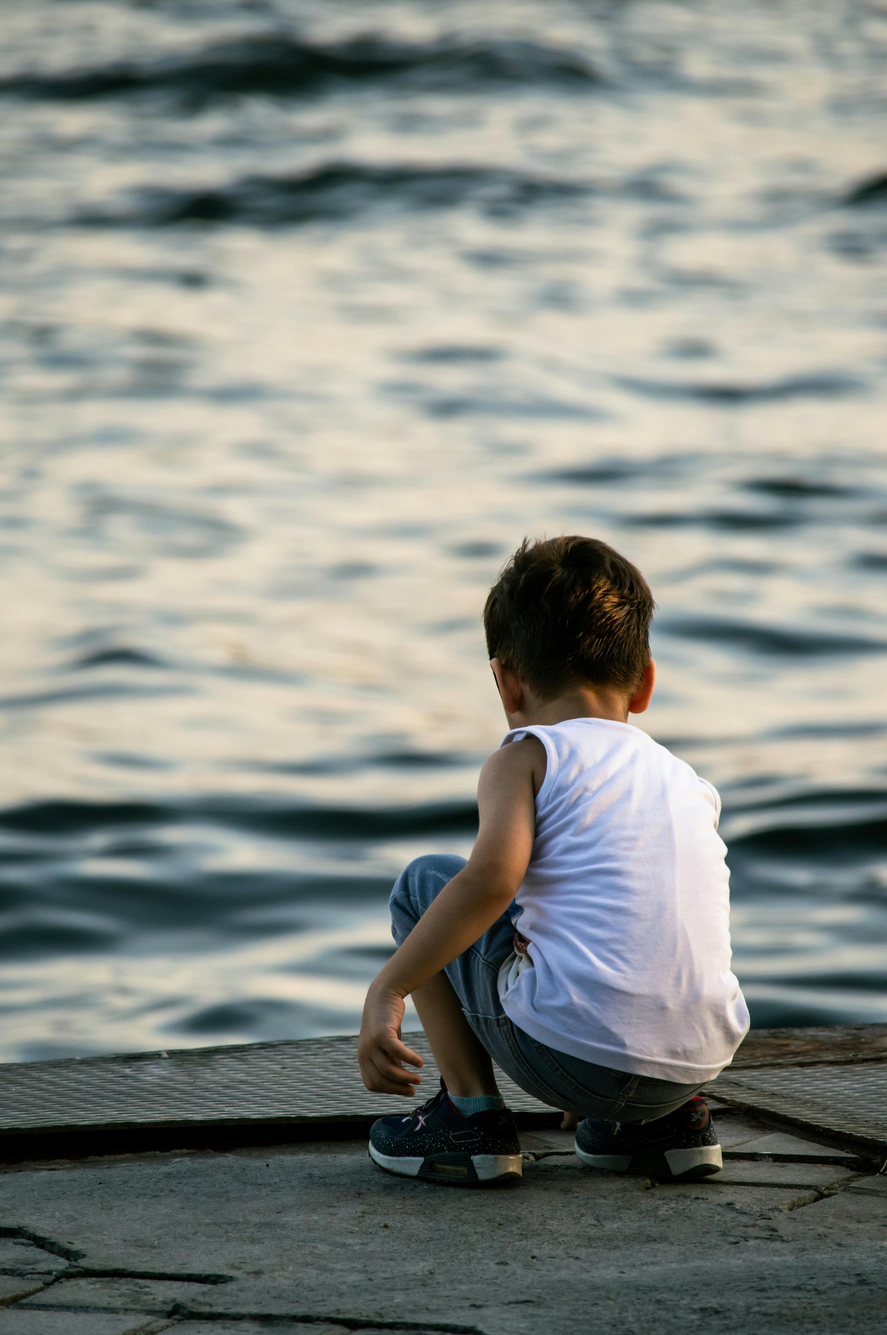Human: (379, 498, 733, 1213)
